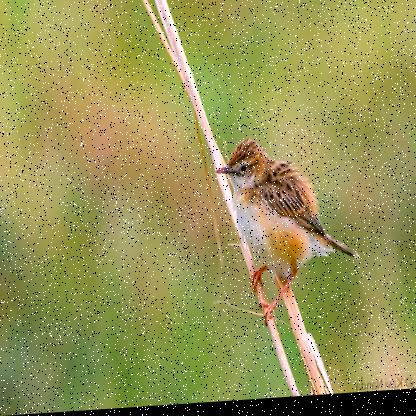Burung: (215, 134, 361, 333)
